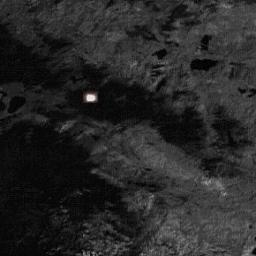Target: (85, 92, 94, 102)
